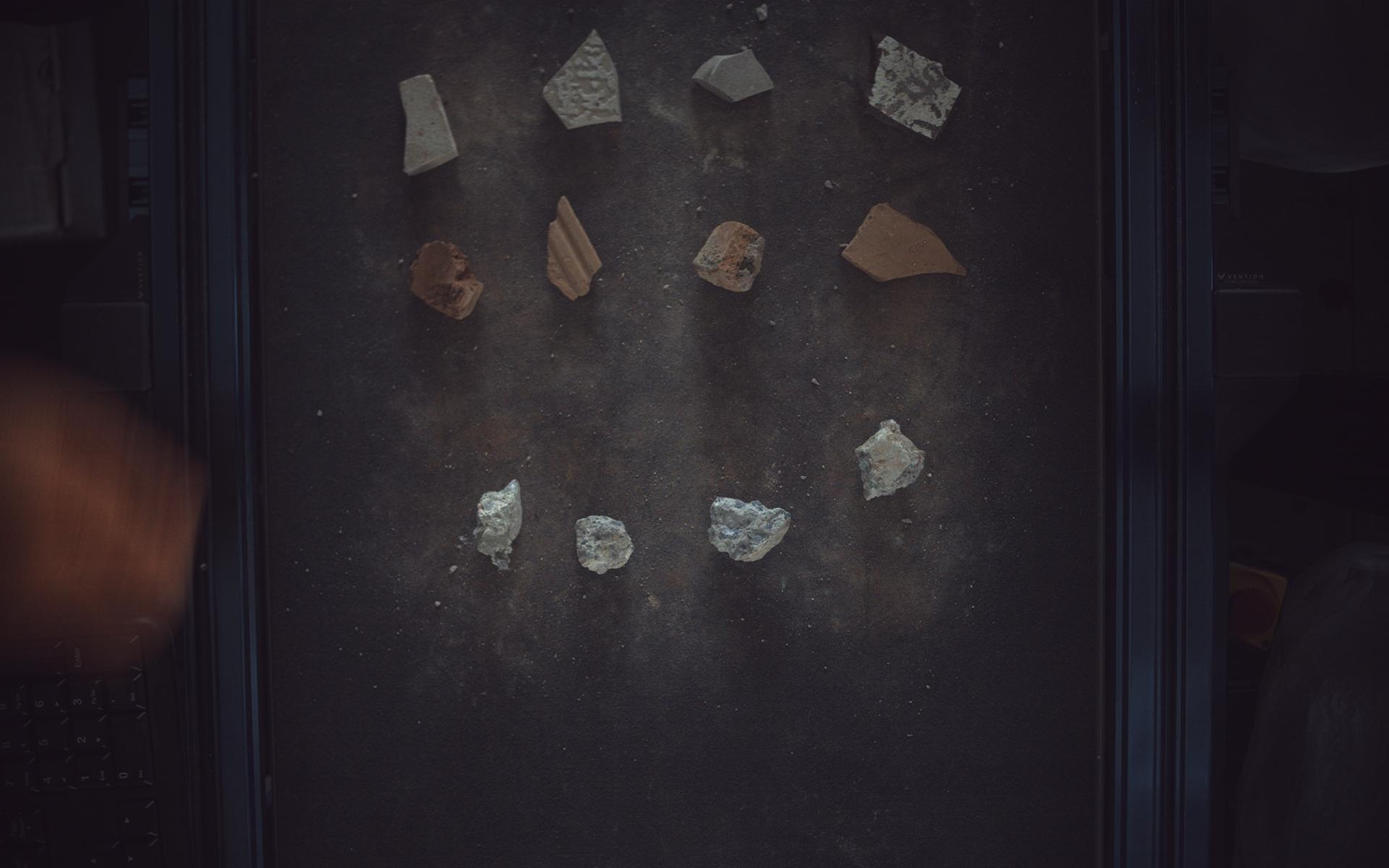brick: (844, 203, 969, 281), (409, 240, 483, 320), (548, 196, 603, 300), (694, 221, 766, 292)
concrete: (857, 420, 927, 500), (710, 498, 791, 562), (473, 480, 523, 571), (577, 516, 634, 574)
tile: (871, 35, 963, 137), (543, 28, 622, 128), (399, 73, 459, 174), (694, 47, 776, 101)
